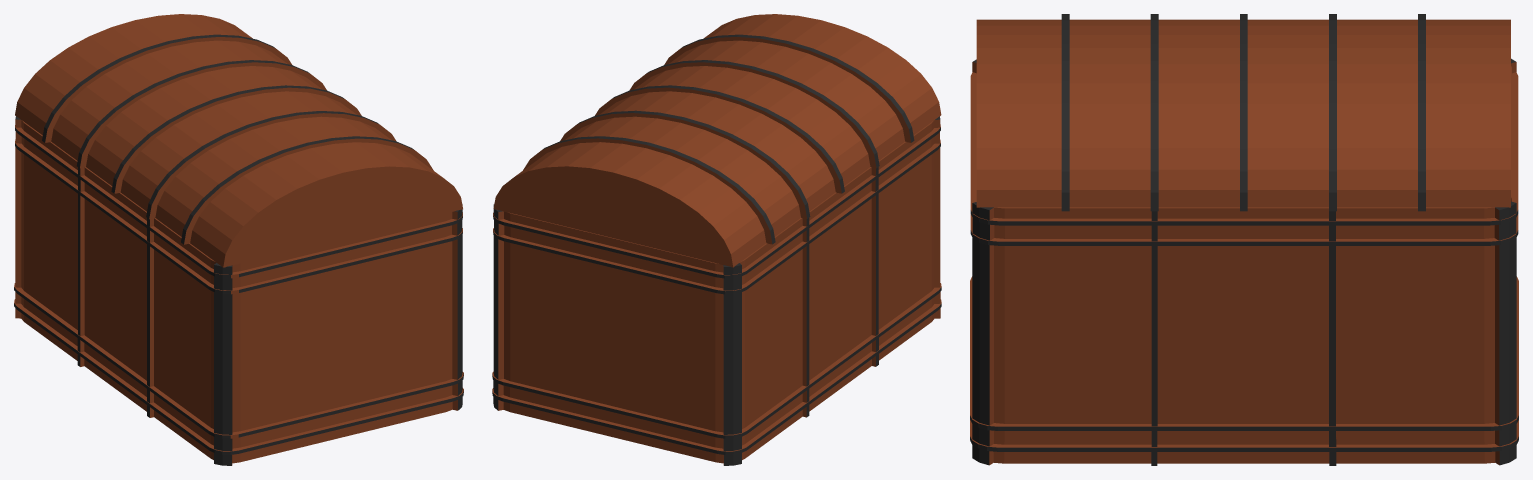
Rendered from chestOpen.gltf.
The picture shows the model from 3 angles, left to right: view 1: azimuth 30°, elevation 25°; view 2: azimuth 150°, elevation 25°; view 3: azimuth 270°, elevation 25°; orthographic projection. The views are drawn at different scales.
Visible parts, largest first — view 1: Cube, Cylinder; view 2: Cube, Cylinder; view 3: Cube, Cylinder.
Part boxes in pixels (x1,y1,x2,y2): Cube: [14, 116, 463, 465]; Cylinder: [15, 14, 462, 267]; Cube: [492, 116, 941, 465]; Cylinder: [493, 14, 941, 267]; Cube: [970, 58, 1518, 465]; Cylinder: [976, 14, 1510, 211].
Size of the model in its own units: 1.25 by 1.27 by 1.83.
